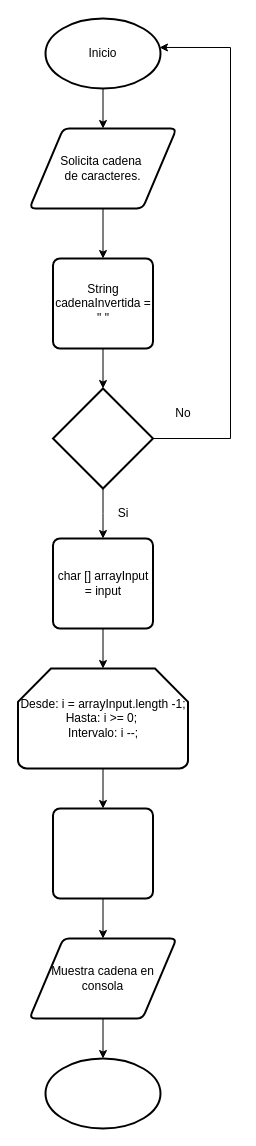
Image size: 256x1146. Some labels were removed from this diagram. The centre of each missing label's shape, as x and y in pixels:
cadenaInvertida += arrayInput[i]: the point at 103,853
Fin: the point at 102,1093
input es String?: the point at 103,438
